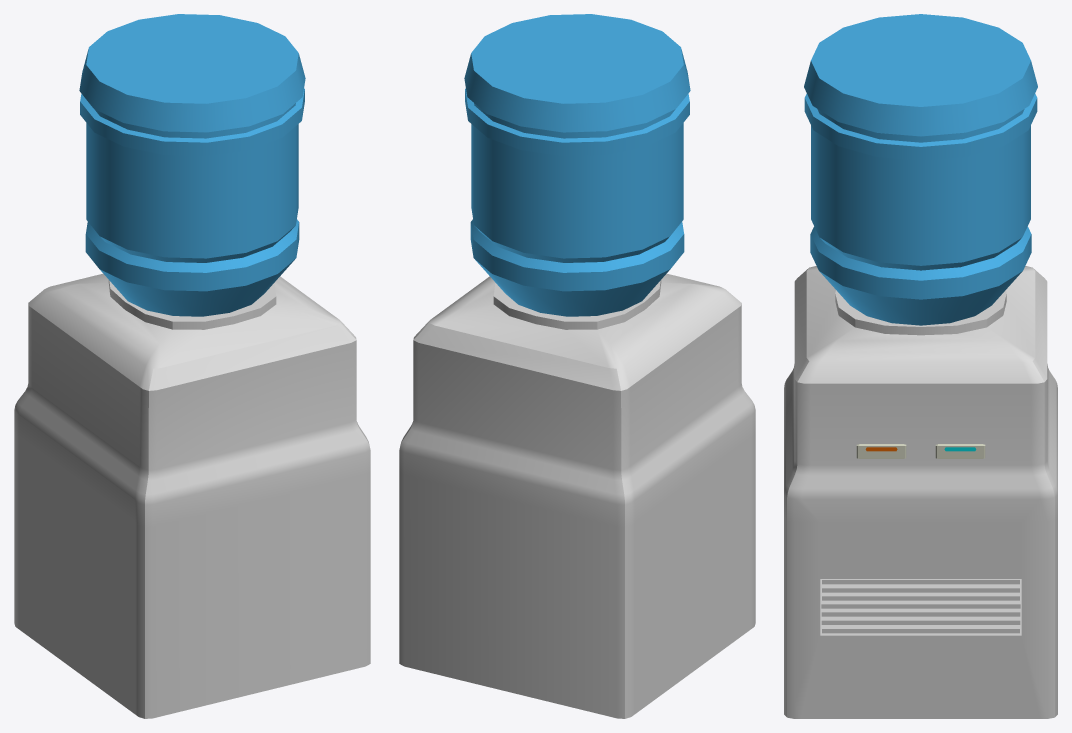
File: water_dispenser.fbx
3 views of the same model, side by side, from view 1: azimuth 30°, elevation 25°; view 2: azimuth 150°, elevation 25°; view 3: azimuth 270°, elevation 25° (orthographic). The views are drawn at different scales.
Visible parts, largest first — view 1: WaterDispenser; view 2: WaterDispenser; view 3: WaterDispenser.
Part boxes in pixels (bbox=[...]): WaterDispenser: bbox=[14, 14, 370, 718]; WaterDispenser: bbox=[399, 14, 755, 718]; WaterDispenser: bbox=[784, 14, 1057, 718].
Bounding box in the file's own units: 401 × 969 × 401.
